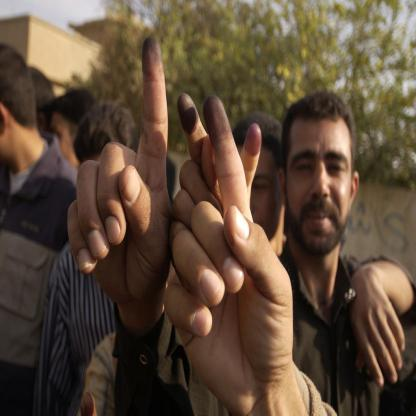face: (289, 114, 353, 253), (232, 146, 279, 247)
